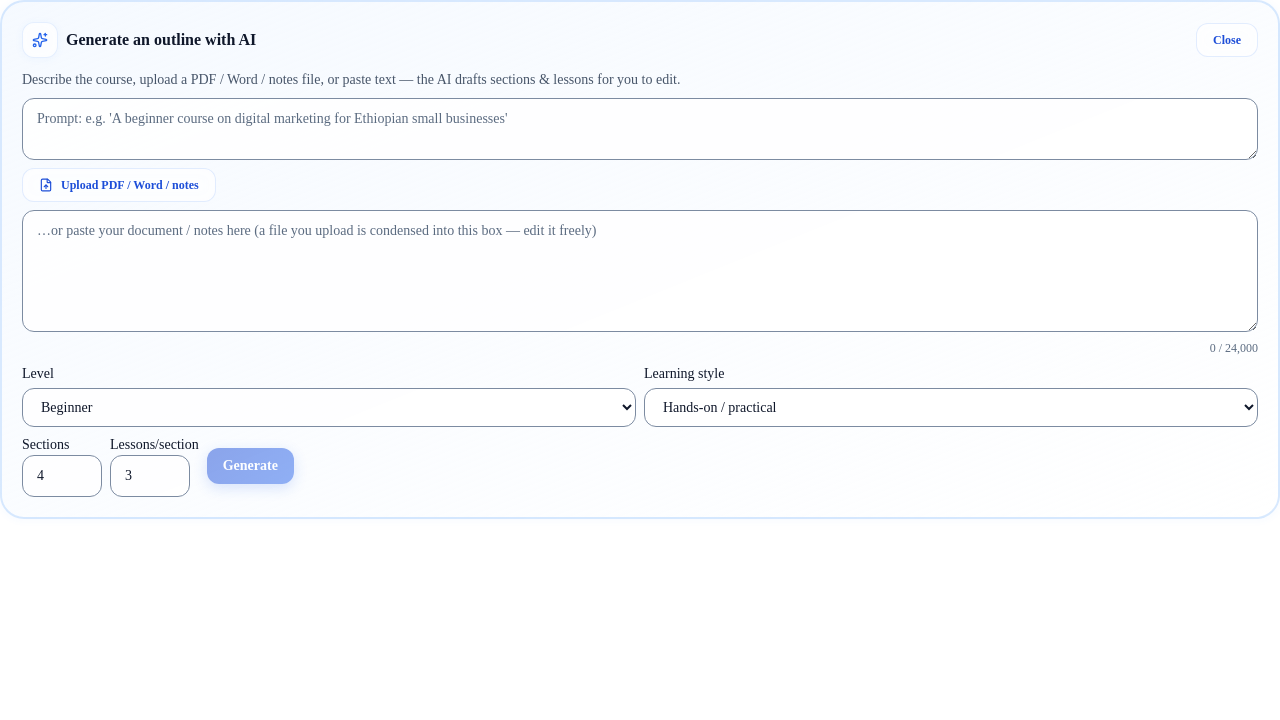
Scenario: <StructureGenerator /> generate and apply › sends the text and shows the API’s note over an outline built from the document’s headings
Replace the text in the text box with placeholder "paste your document" with "Chapter 1 Soil basics": (640, 271) [22, 210, 1258, 332]
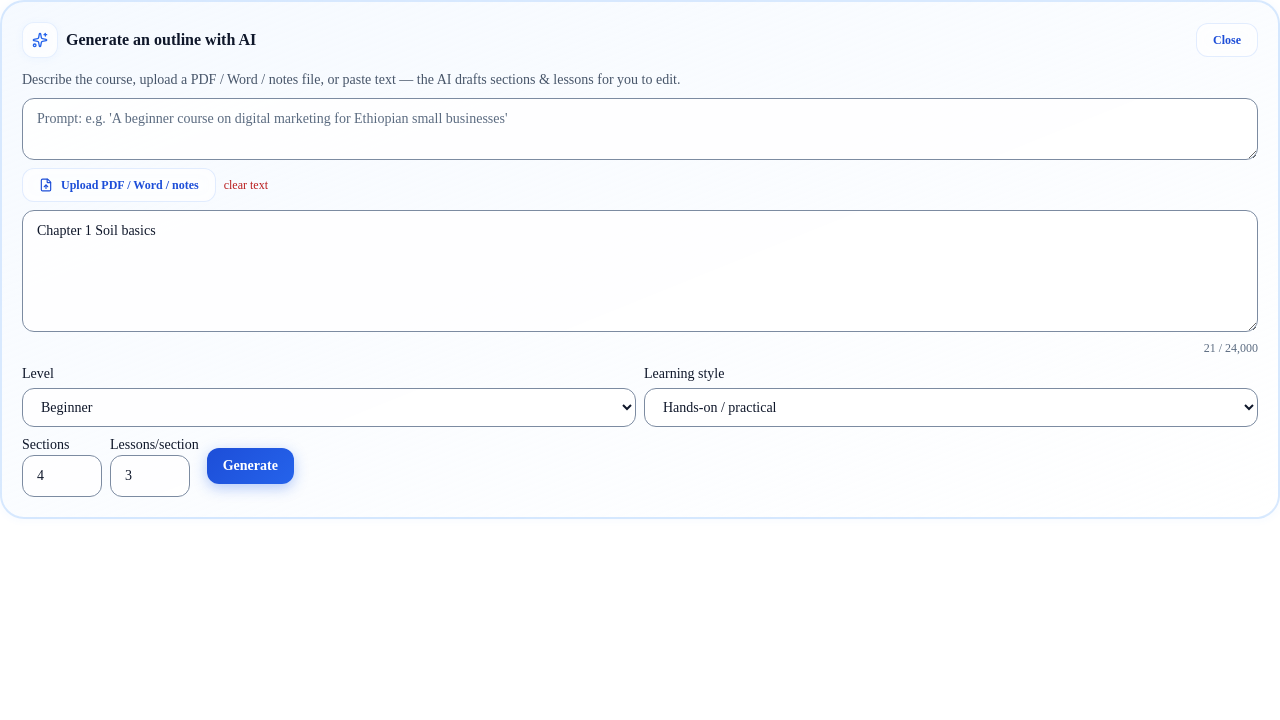
Click the button "Generate": (250, 466) [207, 448, 294, 484]
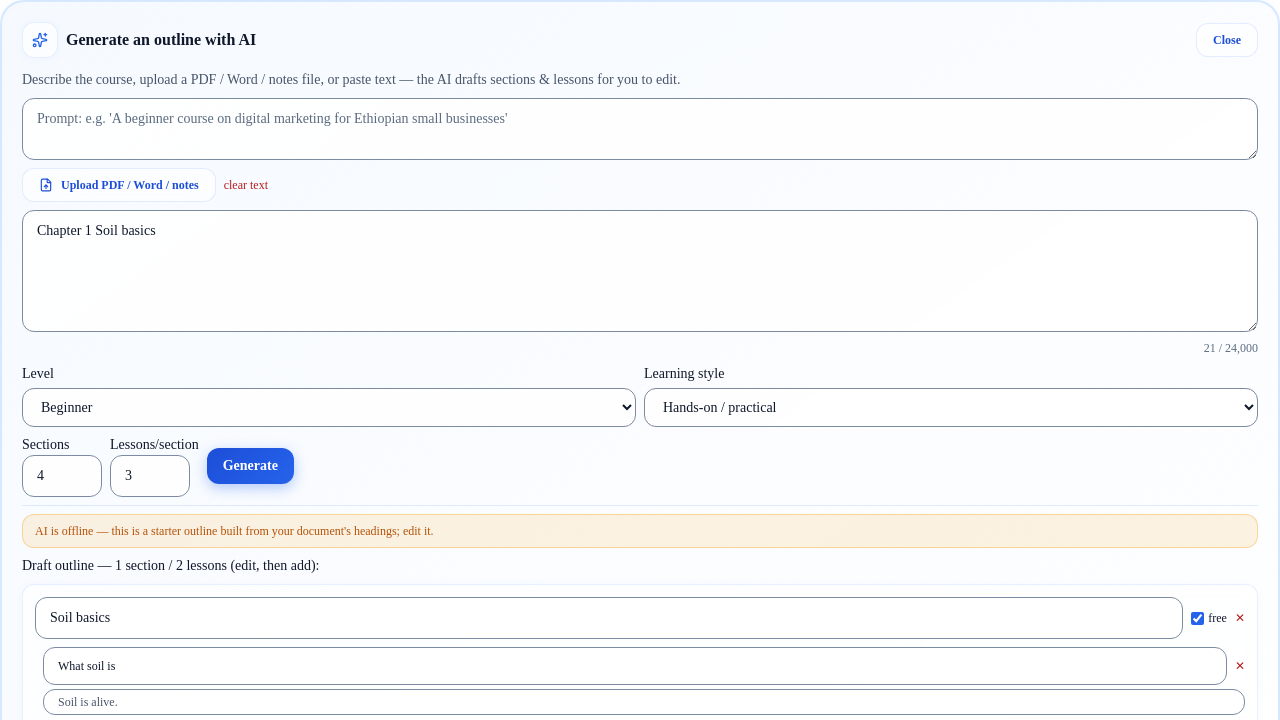
Expected: the text "AI is offline — this is a starter outline built from your document's headings; edit it." is shown once, [22, 514, 1258, 548]
Expected: the field named "Lesson 1 summary" holds "Soil is alive.", [43, 689, 1245, 715]
